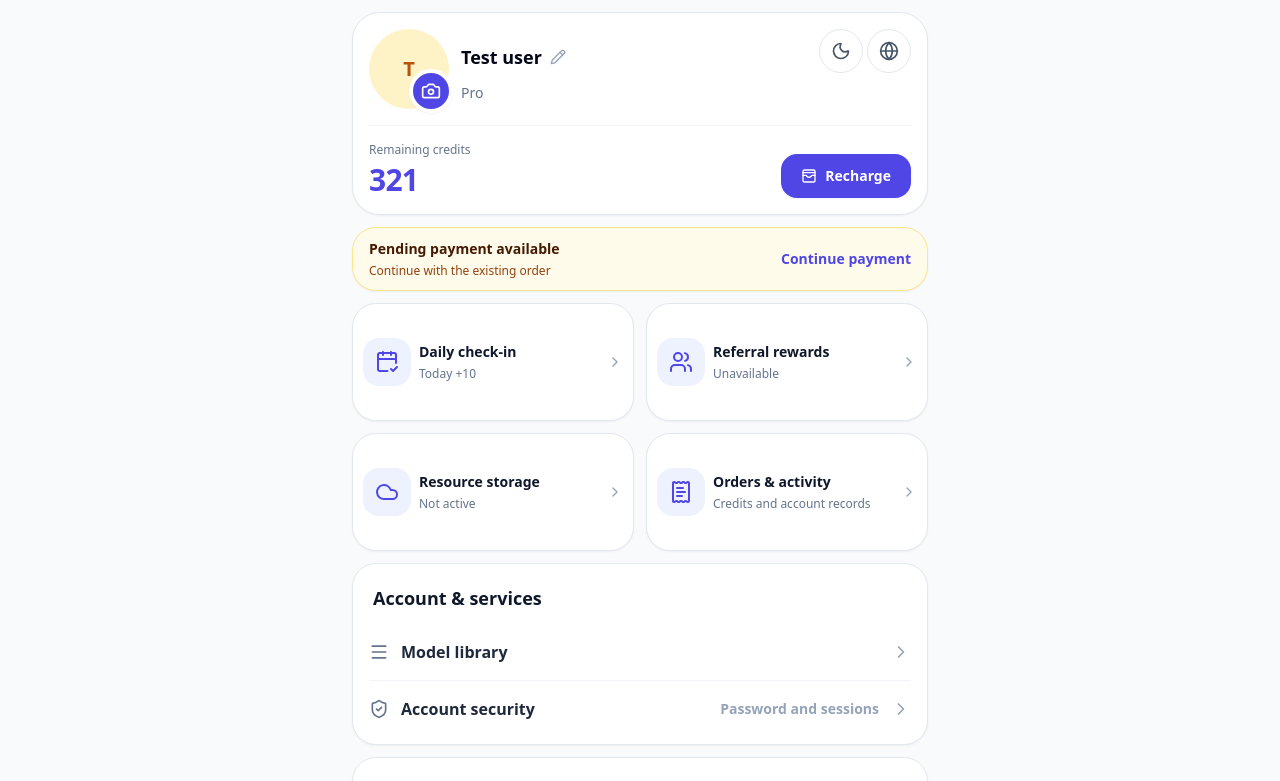
Test: AccountPanel user Order cancellation › routes a mobile Activity drawer cancellation through the shared confirmation
Click the button "Orders & activity Credits and account records". click: (787, 492)
box: [646,433,928,551]
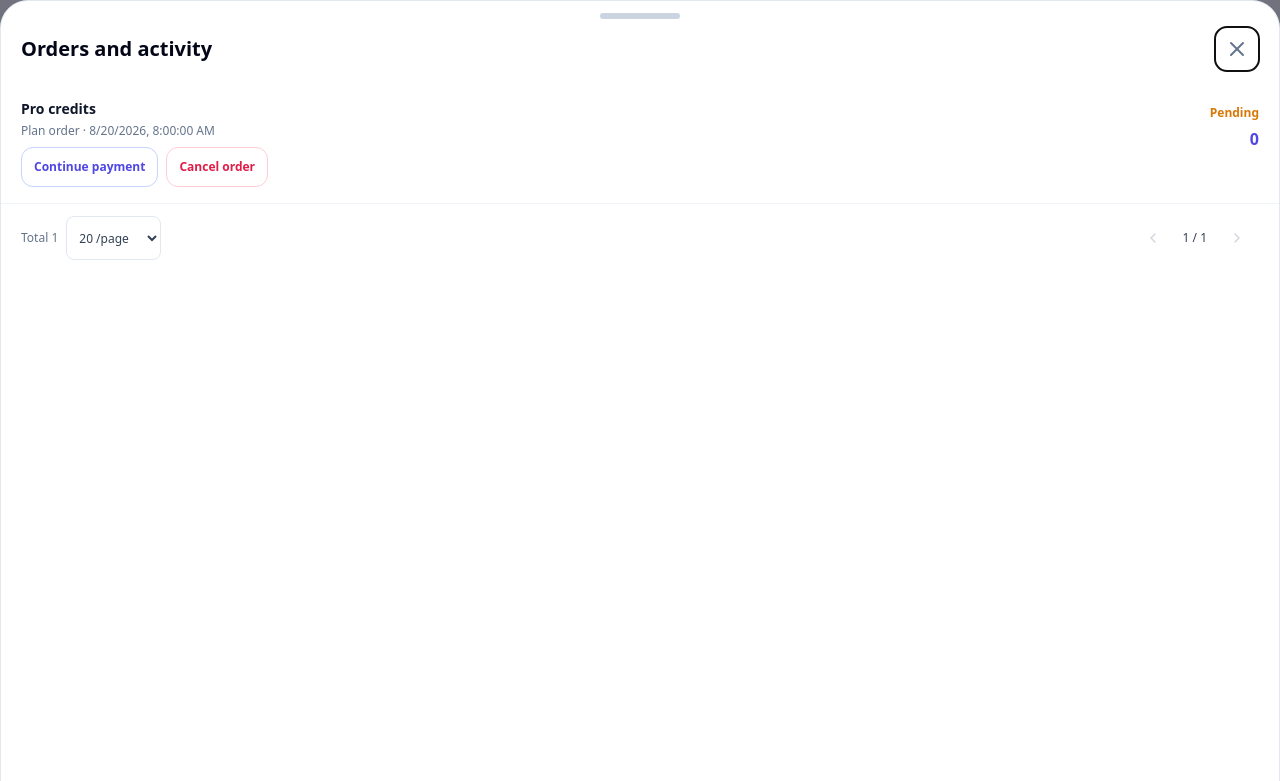
Expected: the dialog shows "Cancel order"
Click the button "Cancel order". click: (217, 167)
box: [166,147,268,187]
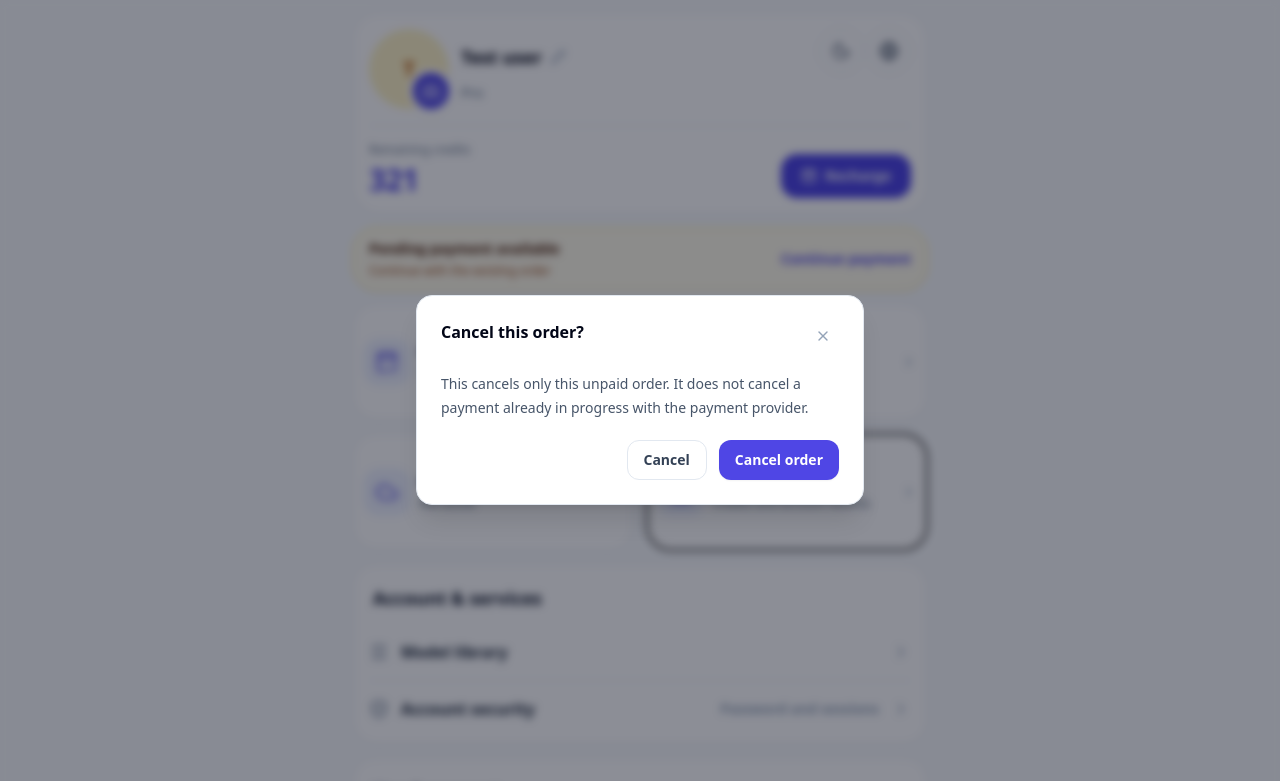
Expected: the heading "Orders and activity" is gone
Expected: the dialog shows "Cancel this order?", [441,321,584,343]
